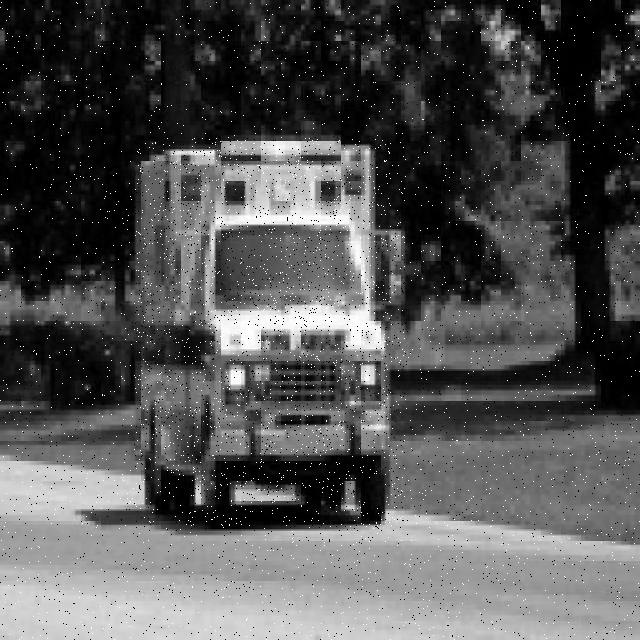Ambulance: (134, 138, 405, 528)
